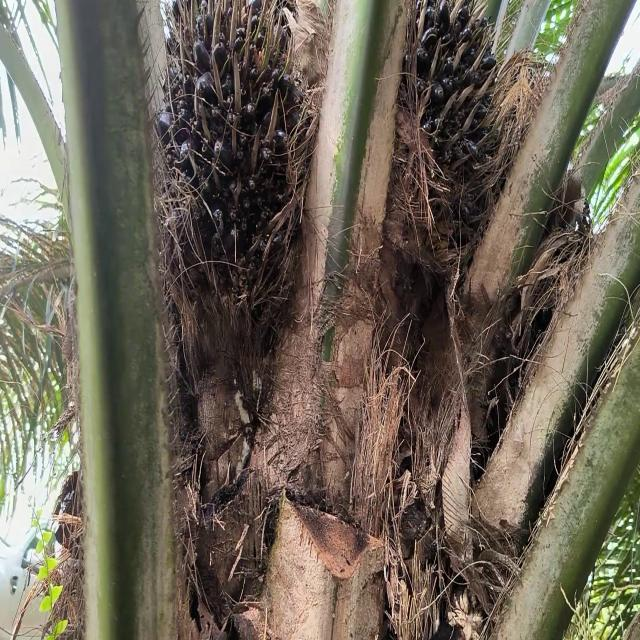palm-oil: (157, 0, 314, 334), (407, 0, 502, 236)
